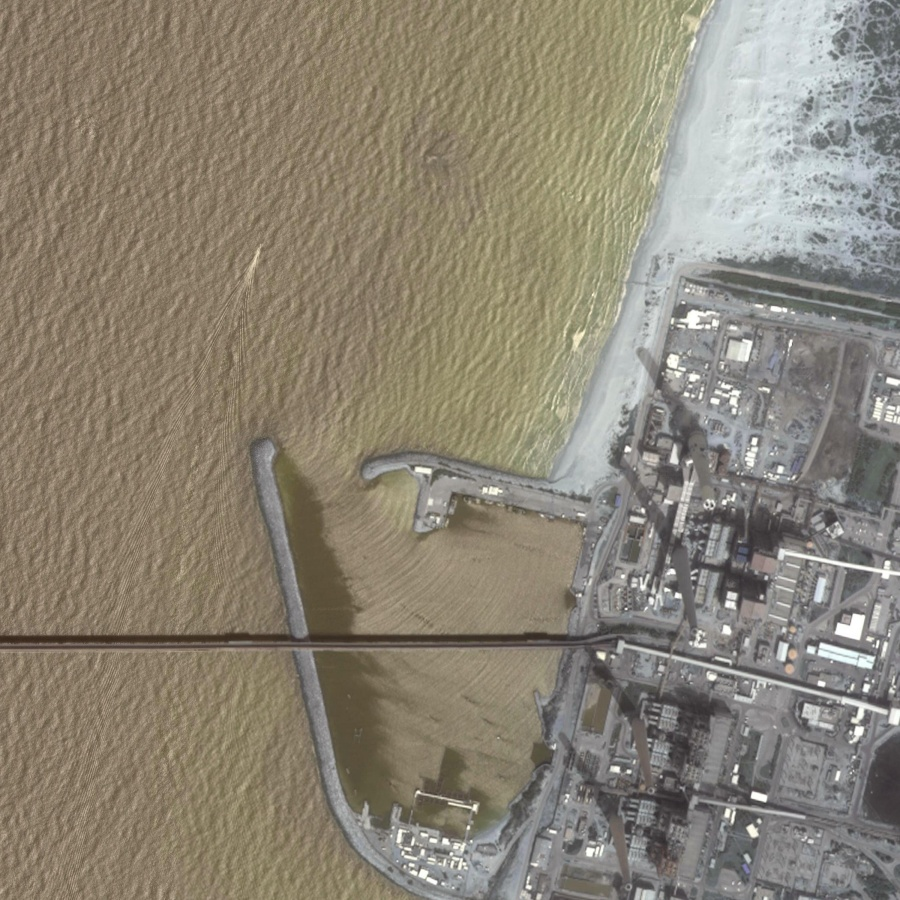PowerPlant: (525, 477, 786, 898)
